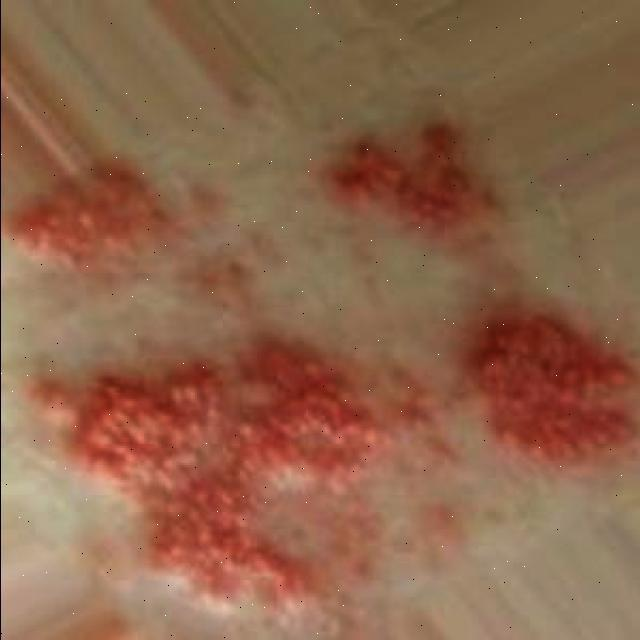Shingles: (12, 335, 386, 626), (458, 303, 640, 464), (336, 116, 506, 240), (6, 160, 175, 271)
